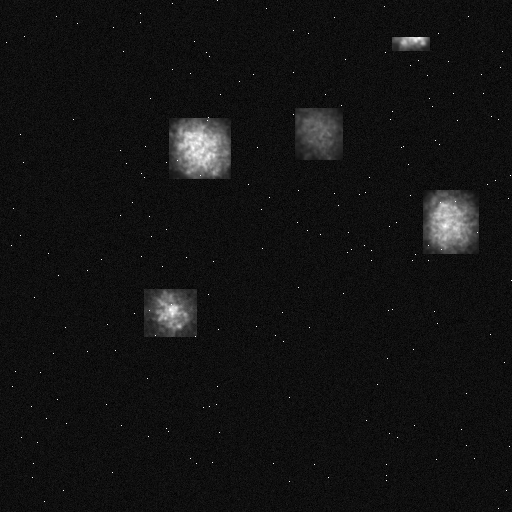lam1: (144, 289, 196, 336), (392, 37, 429, 50)
lam3: (169, 118, 230, 178), (423, 190, 478, 253), (295, 108, 342, 159)
